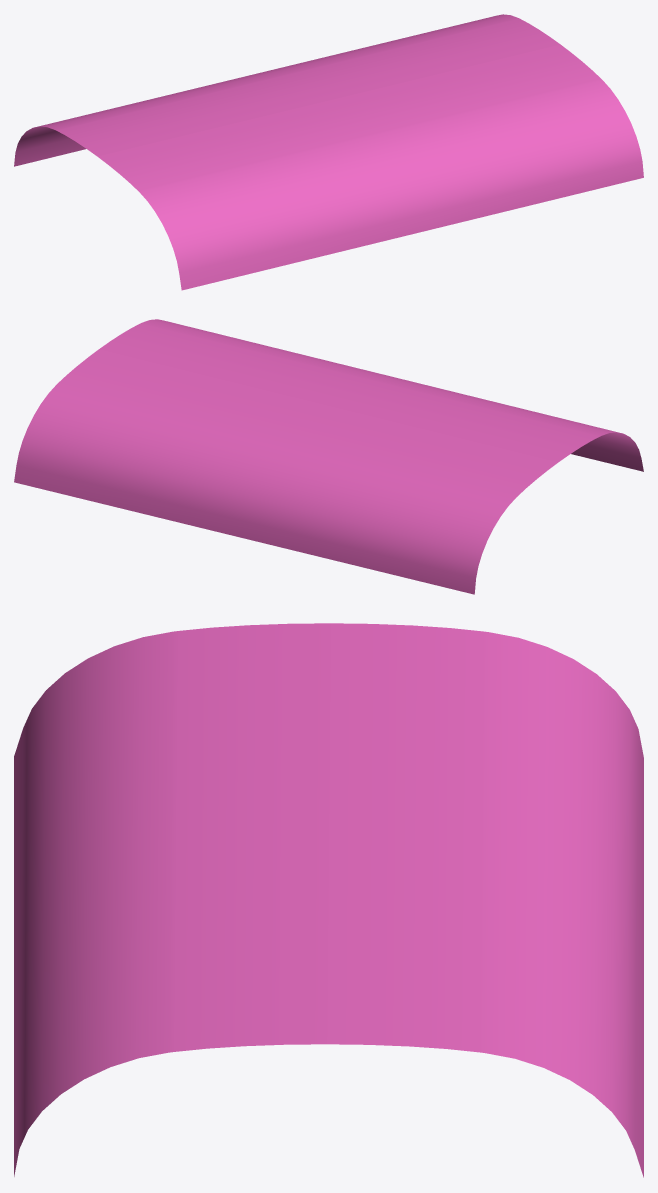
The model's file is TemporalRoomCeiling.fbx.
3 views of the same model, one above another, from view 1: azimuth 30°, elevation 25°; view 2: azimuth 150°, elevation 25°; view 3: azimuth 270°, elevation 25° (orthographic). The views are drawn at different scales.
Visible parts, largest first — view 1: ceiling.002; view 2: ceiling.002; view 3: ceiling.002.
Part boxes in pixels (bbox=[...]): ceiling.002: bbox=[14, 14, 643, 290]; ceiling.002: bbox=[14, 319, 643, 594]; ceiling.002: bbox=[14, 623, 643, 1177].
Bounding box in the file's own units: 2377 × 352 × 1500.
